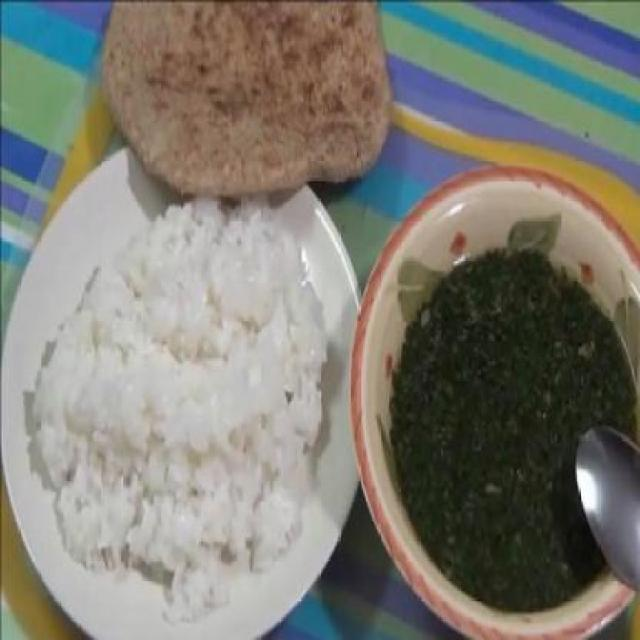fried rice: (29, 187, 336, 625)
molokhia: (388, 230, 638, 619)
